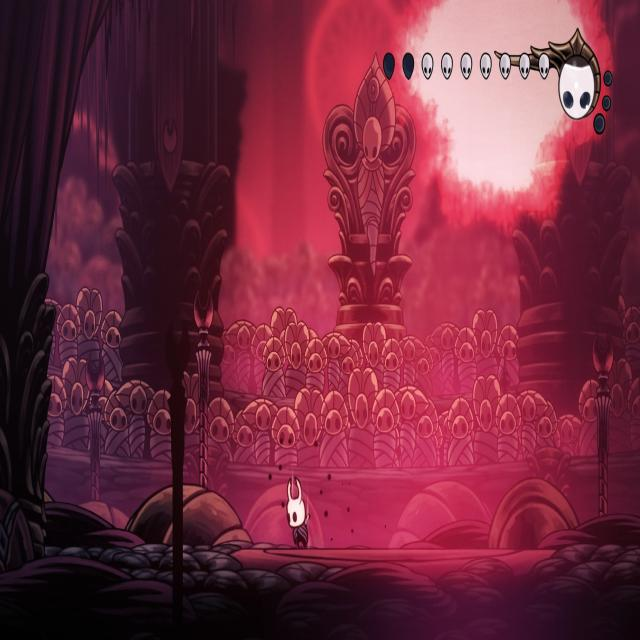Fireball: (408, 0, 586, 191)
Player: (284, 471, 313, 549)
